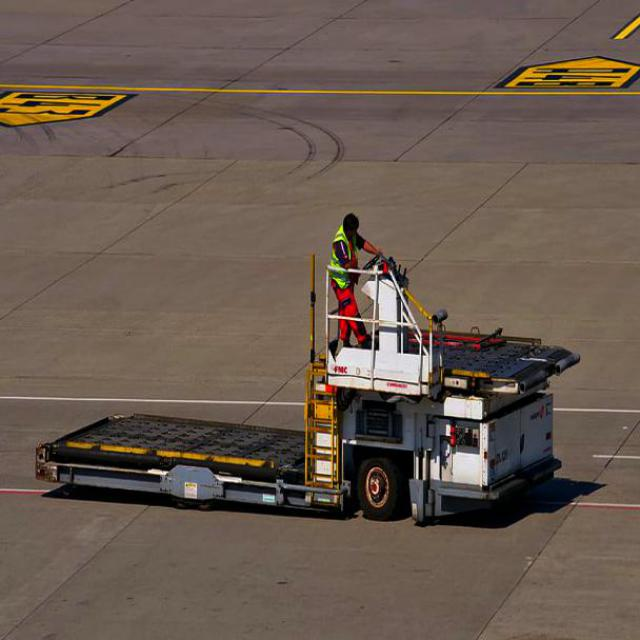vest: (328, 224, 356, 297)
